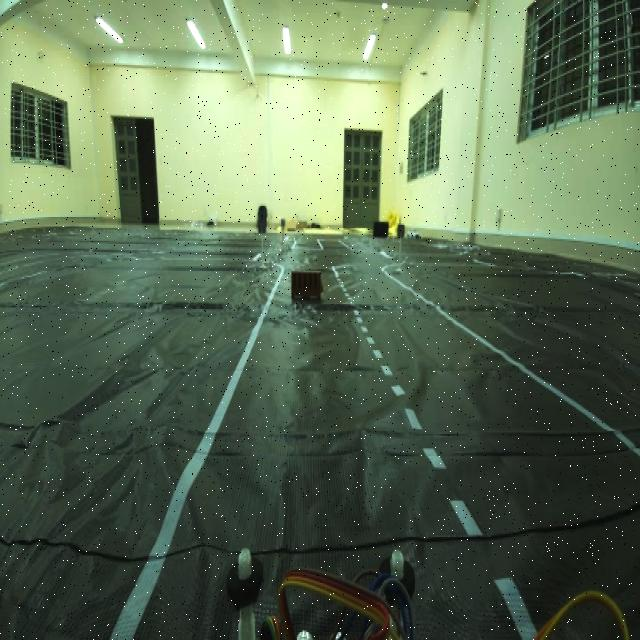roadblock: (288, 257, 327, 312)
